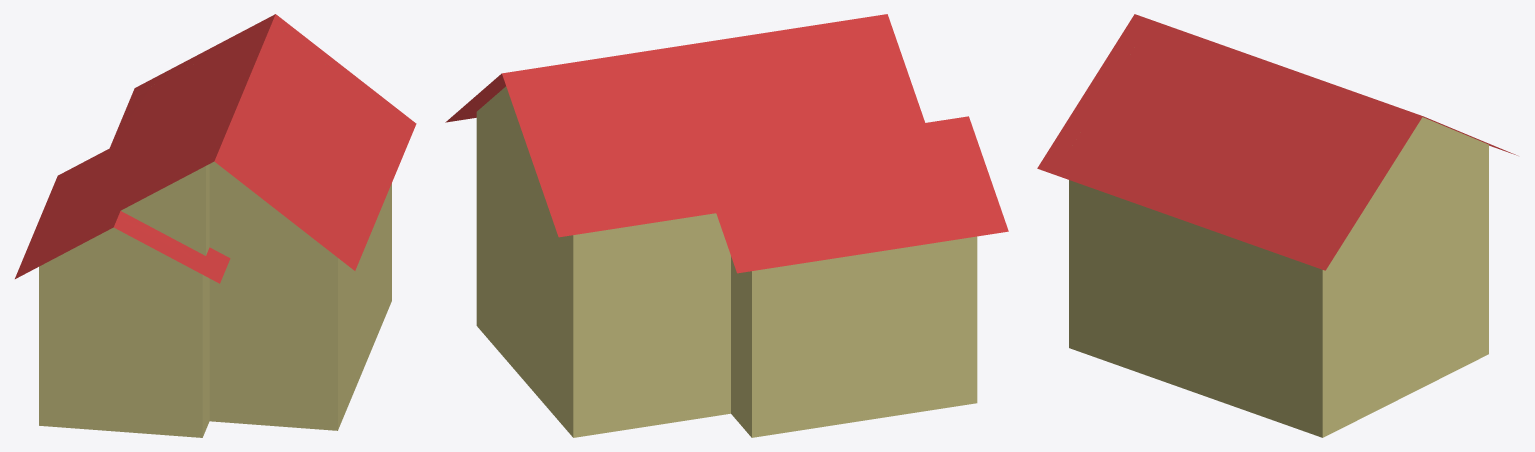
The picture shows the model from 3 angles, left to right: view 1: azimuth 30°, elevation 25°; view 2: azimuth 150°, elevation 25°; view 3: azimuth 270°, elevation 25°; orthographic projection. The views are drawn at different scales.
Visible parts, largest first — view 1: group_5, group_3, group_9, group_4, group_7; view 2: group_5, group_3, group_4; view 3: group_5, group_3, group_4.
Boxes of the visible parts, x1=… form: group_5: x1=39, y1=161, x2=391, y2=431; group_3: x1=15, y1=14, x2=416, y2=278; group_9: x1=117, y1=229, x2=205, y2=437; group_4: x1=18, y1=14, x2=359, y2=277; group_7: x1=113, y1=211, x2=230, y2=283; group_5: x1=476, y1=86, x2=977, y2=437; group_3: x1=496, y1=14, x2=1008, y2=273; group_4: x1=445, y1=14, x2=1007, y2=273; group_5: x1=1069, y1=117, x2=1488, y2=437; group_3: x1=1038, y1=20, x2=1517, y2=270; group_4: x1=1037, y1=14, x2=1440, y2=187.
Bounding box in the file's own units: 18.1 × 16.06 × 10.48.
